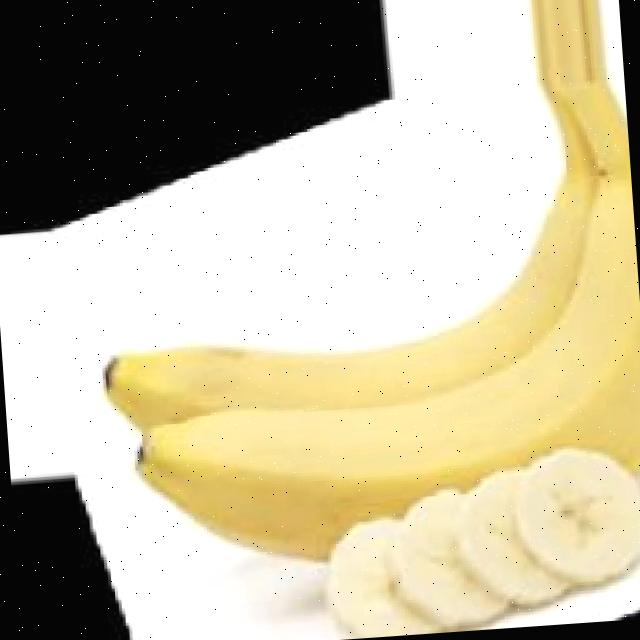banana: (75, 77, 640, 618)
